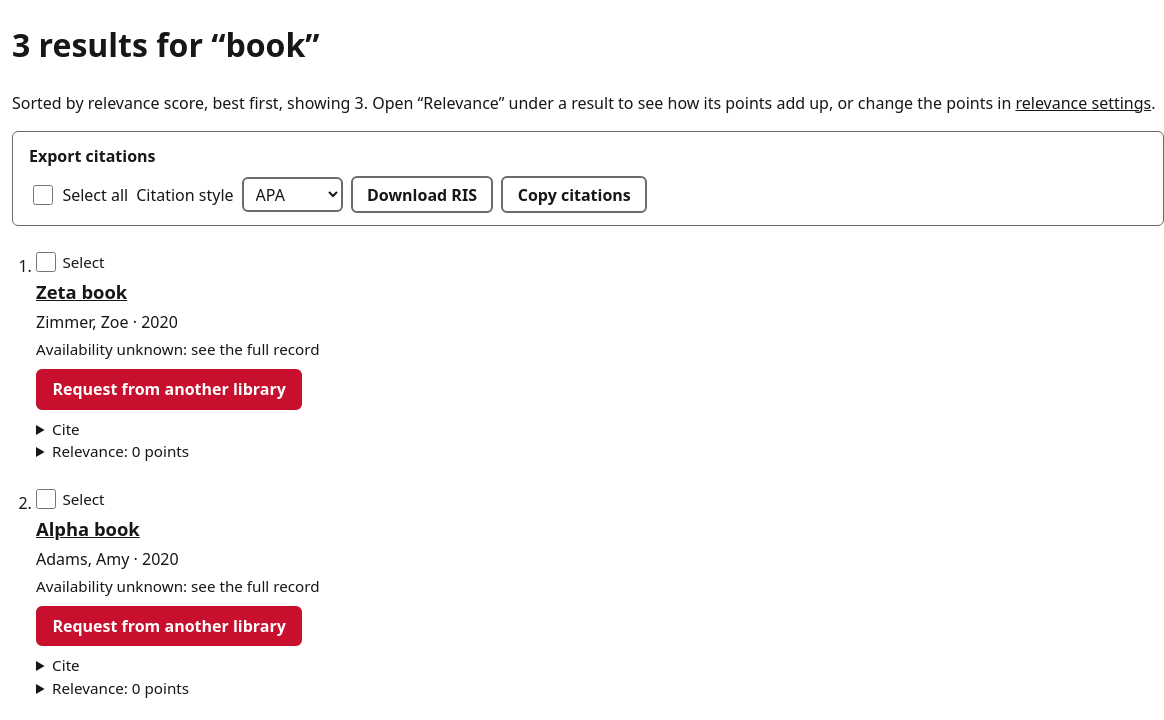
Test case: select all checks every result
This screenshot has width=1164, height=720.
Click the checkbox labelled "Select all" at (43, 195), box [33,185,53,205]
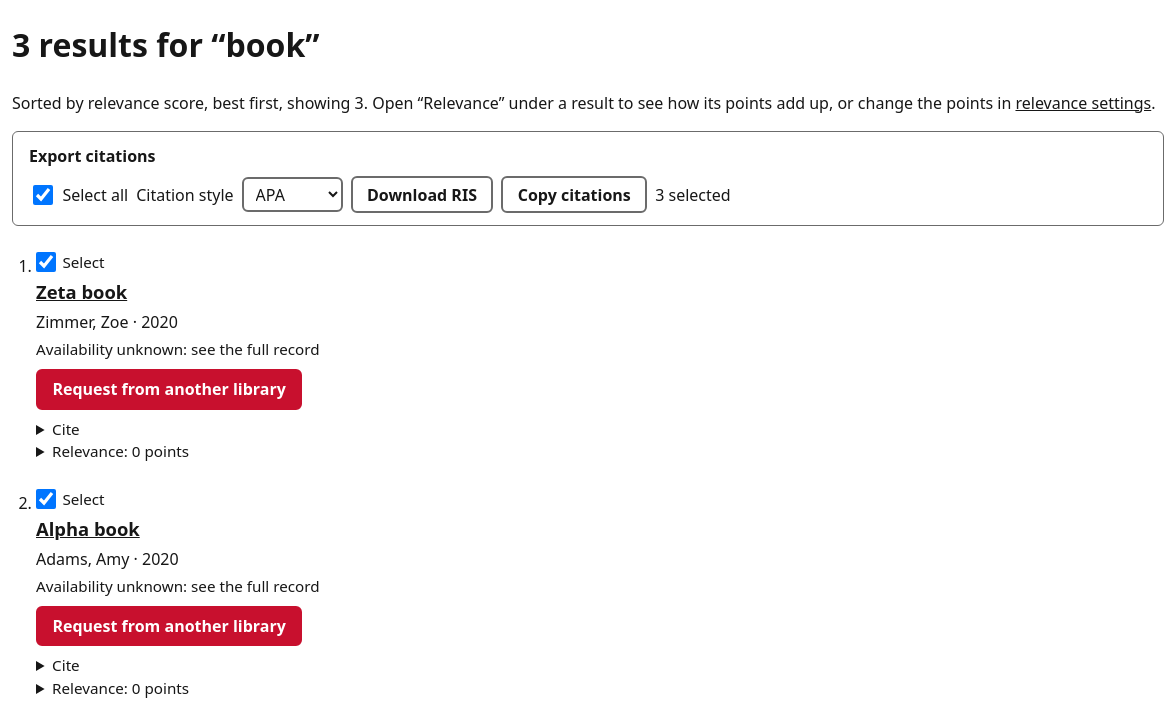
Expected: the message "3 selected" is shown, [655,183,731,207]
Click the checkbox labelled "Select all" at (43, 195), box [33,185,53,205]
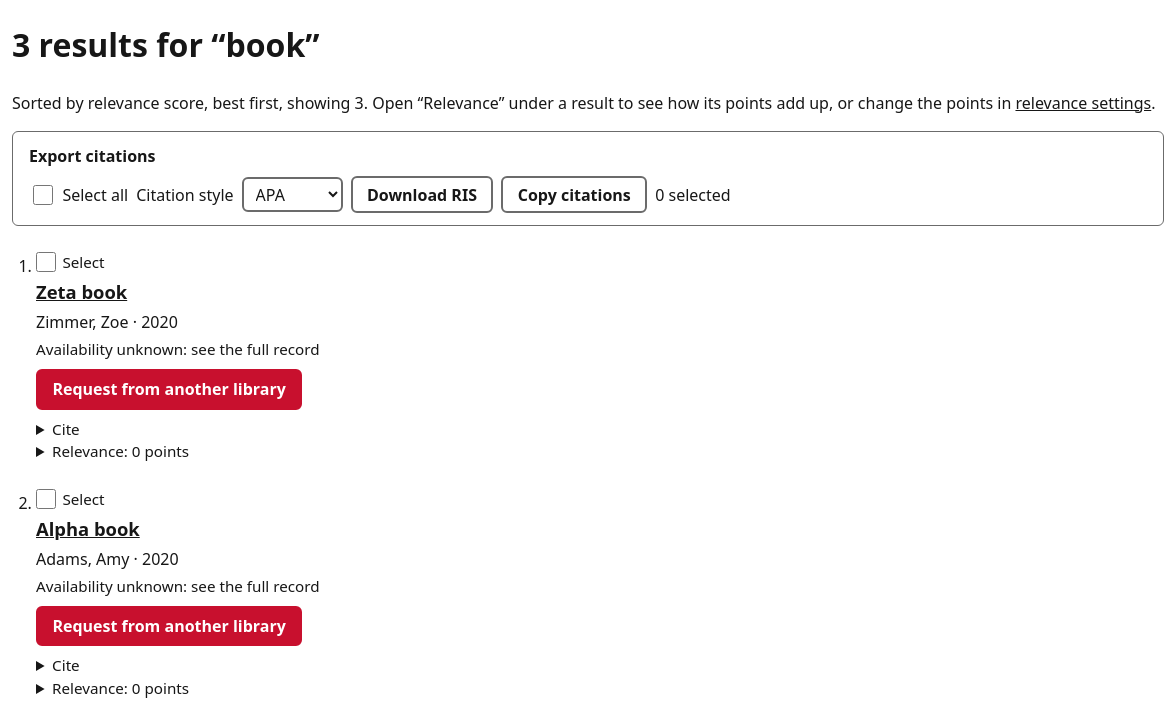
Expected: the message "0 selected" is shown, [655,183,731,207]
